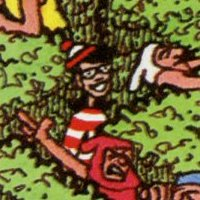wenda: (69, 39, 113, 97)
